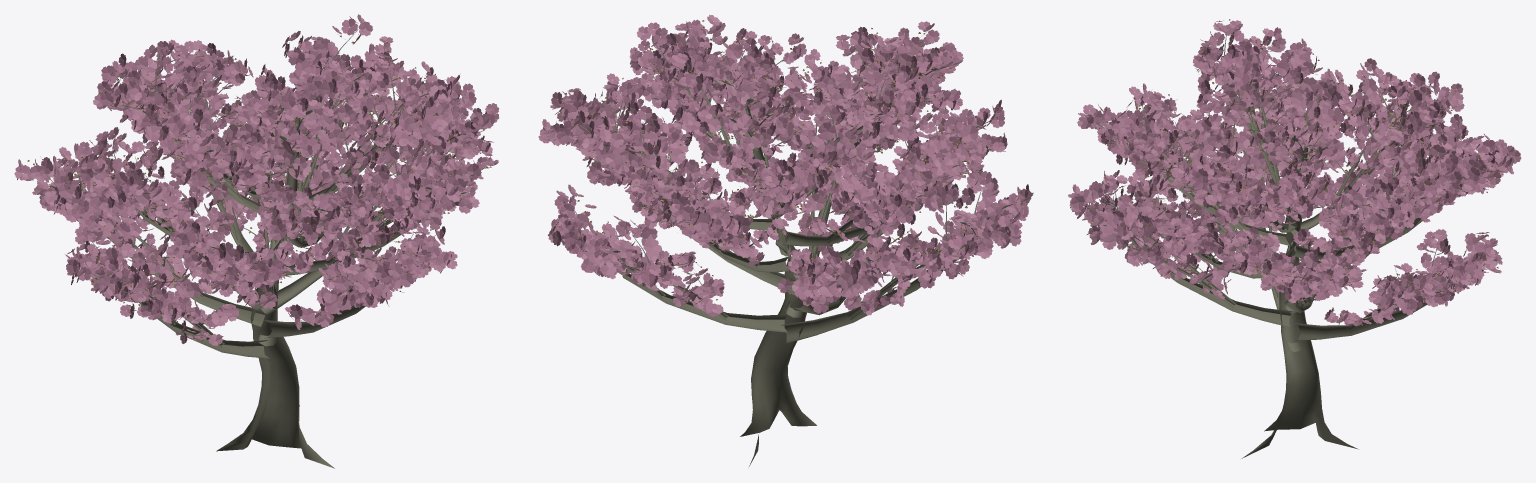
3 views of the same model, side by side, from view 1: azimuth 30°, elevation 25°; view 2: azimuth 150°, elevation 25°; view 3: azimuth 270°, elevation 25° (orthographic). The views are drawn at different scales.
Parts seen in each view (by area): view 1: leaves, branches; view 2: leaves, branches; view 3: leaves, branches.
Part boxes in pixels (<box>): leaves: <box>14,14,499,345</box>; branches: <box>46,30,486,468</box>; leaves: <box>538,14,1033,316</box>; branches: <box>547,30,1023,466</box>; leaves: <box>1068,19,1521,326</box>; branches: <box>1084,29,1503,458</box>.
Bounding box in the file's own units: 9.5 × 8.17 × 9.03.
